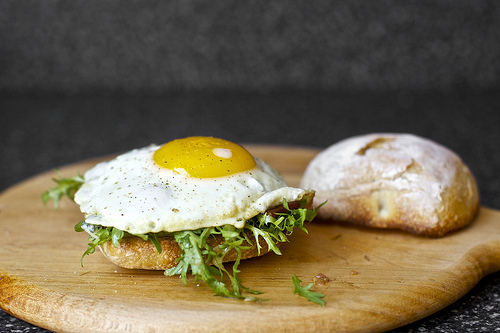chopped lettuce: (88, 223, 305, 236)
fried egg: (82, 134, 289, 220)
slice of bread: (304, 136, 465, 231), (98, 238, 294, 269)
